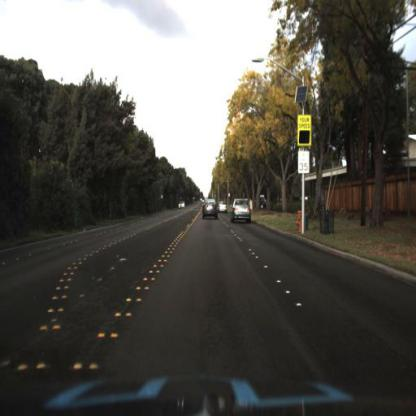car: (230, 196, 256, 224), (200, 194, 222, 225), (178, 198, 188, 215), (218, 201, 228, 217)
